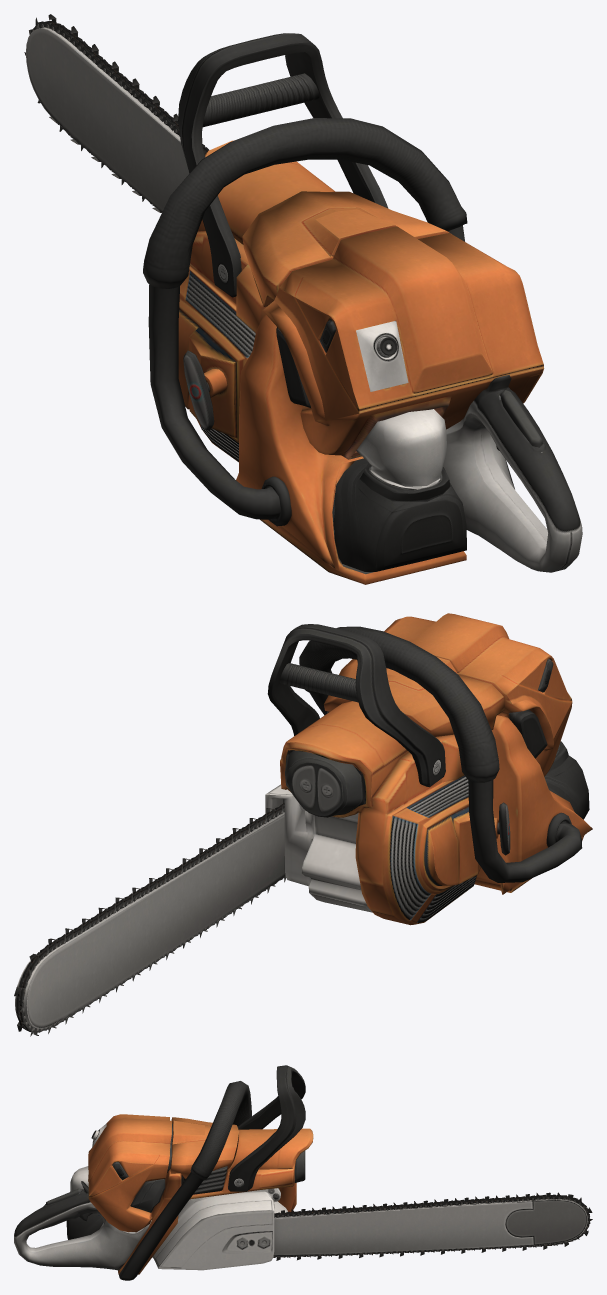
File: Low Poly Chainsaw_blend_Shape_Keys_Animation_74.fbx
3 renders of one model, top to bottom at view 1: azimuth 30°, elevation 25°; view 2: azimuth 150°, elevation 25°; view 3: azimuth 270°, elevation 25°, orthographic. The views are drawn at different scales.
Parts seen in each view (by area): view 1: Cube, Cube.002; view 2: Cube, Cube.002; view 3: Cube, Cube.002.
Boxes of the visible parts, bbox=[...] form: Cube: bbox=[26, 27, 582, 584]; Cube.002: bbox=[24, 14, 209, 212]; Cube: bbox=[15, 613, 592, 1028]; Cube.002: bbox=[14, 799, 286, 1036]; Cube: bbox=[14, 1065, 587, 1280]; Cube.002: bbox=[273, 1192, 592, 1260].
Size of the model in its own units: 258 by 316 by 901.
Materials: 4 (4 with a texture image).
